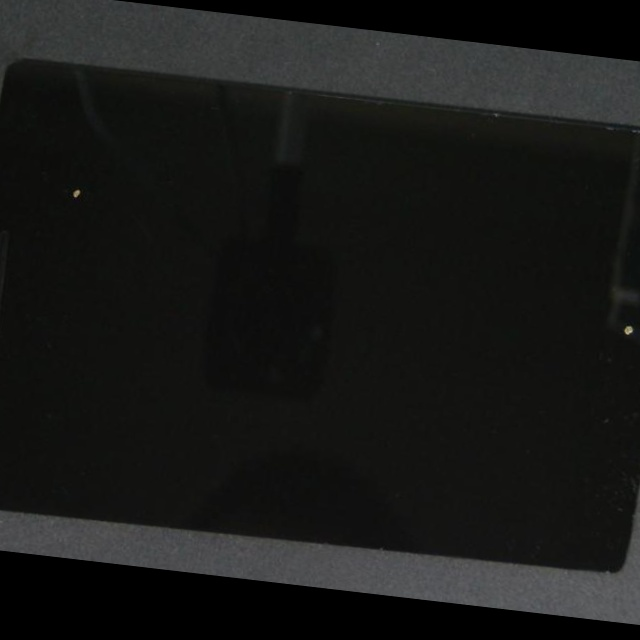stain: (232, 164, 640, 504), (0, 96, 133, 327)
